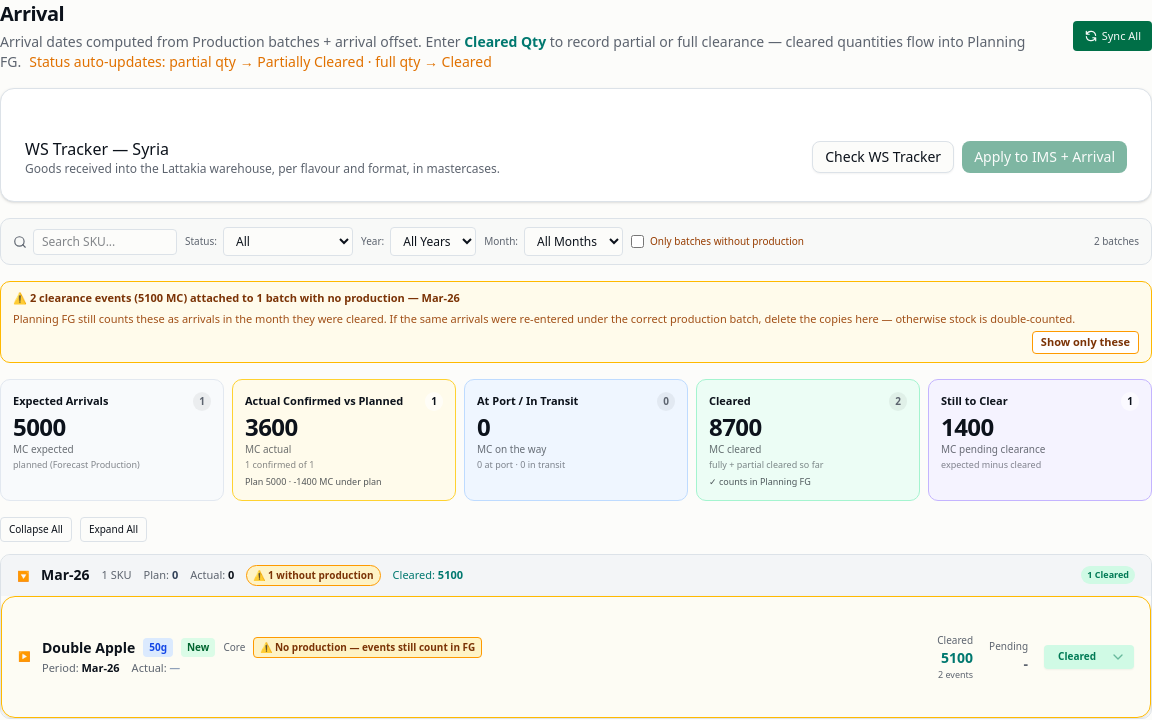
it: ArrivalPage — orphaned clearance events (no production) › "Show only these" narrows the list to orphaned batches and can be cleared
Click the button "Show only these".
click(1085, 342)  # box [1032,331,1139,354]
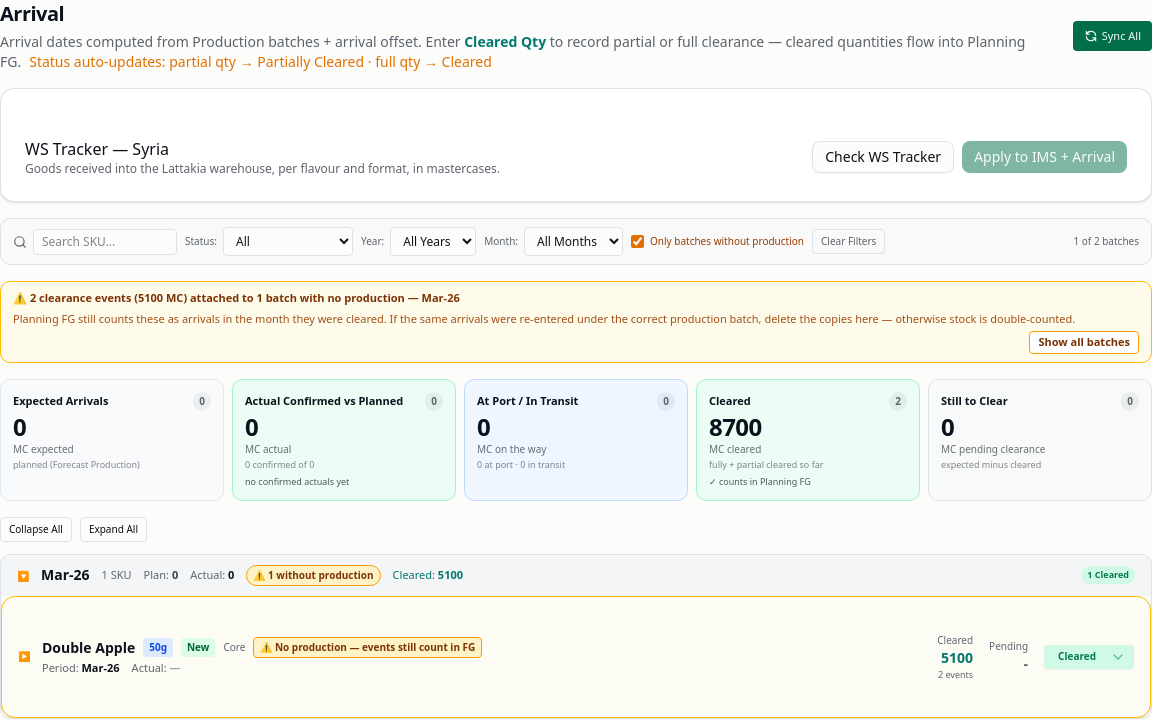
Expected: the number of elements with test id "orphan-batch" is 1, [1,596,1151,718]
Expected: the text "Apr-26" is not shown
Click the button "Show all batches".
click(1084, 342)  # box [1029,331,1139,354]
(page scrolled)
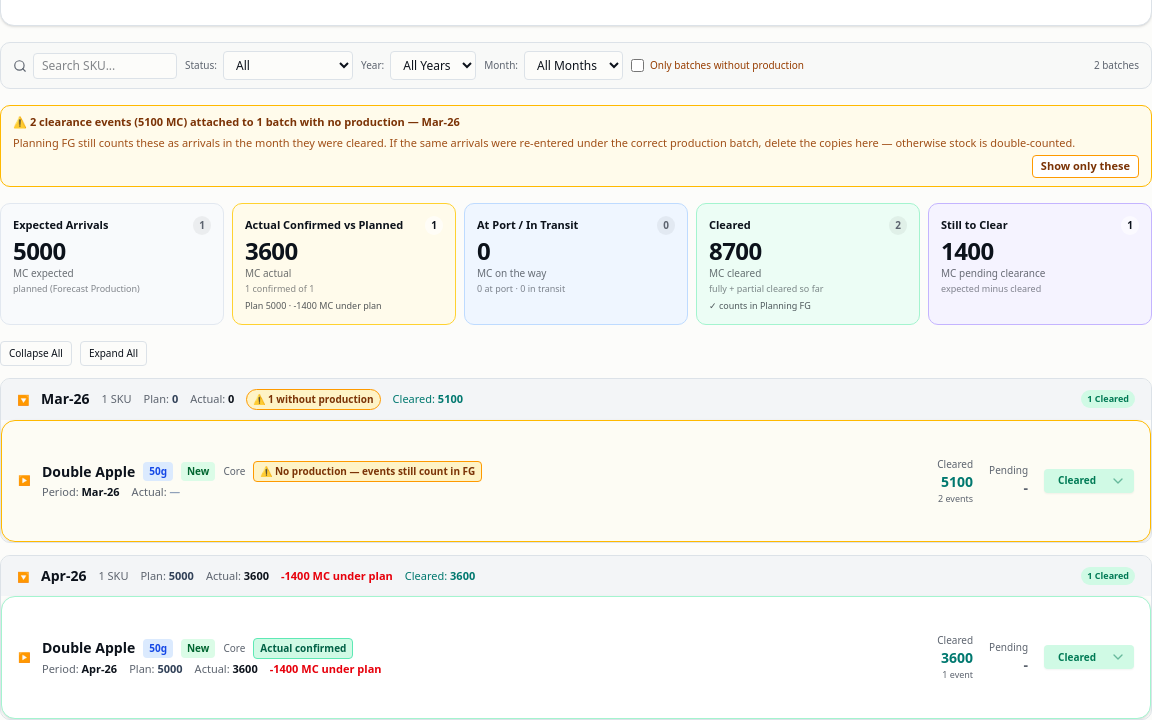
Result: the 2nd text "Apr-26" is shown at [82,660,117,676]
